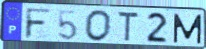2: (146, 11, 170, 45)
5: (57, 9, 80, 41)
F: (24, 7, 53, 40)
M: (172, 13, 203, 45)
O: (83, 9, 113, 43)
T: (116, 10, 140, 44)
